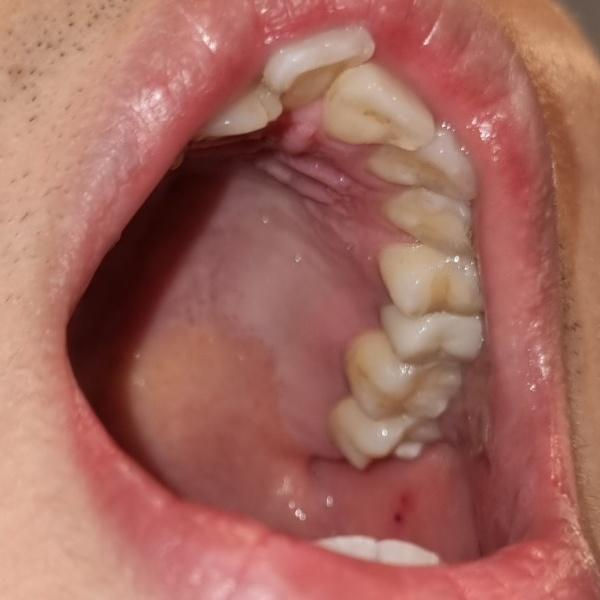Crowding: (254, 26, 421, 153)
